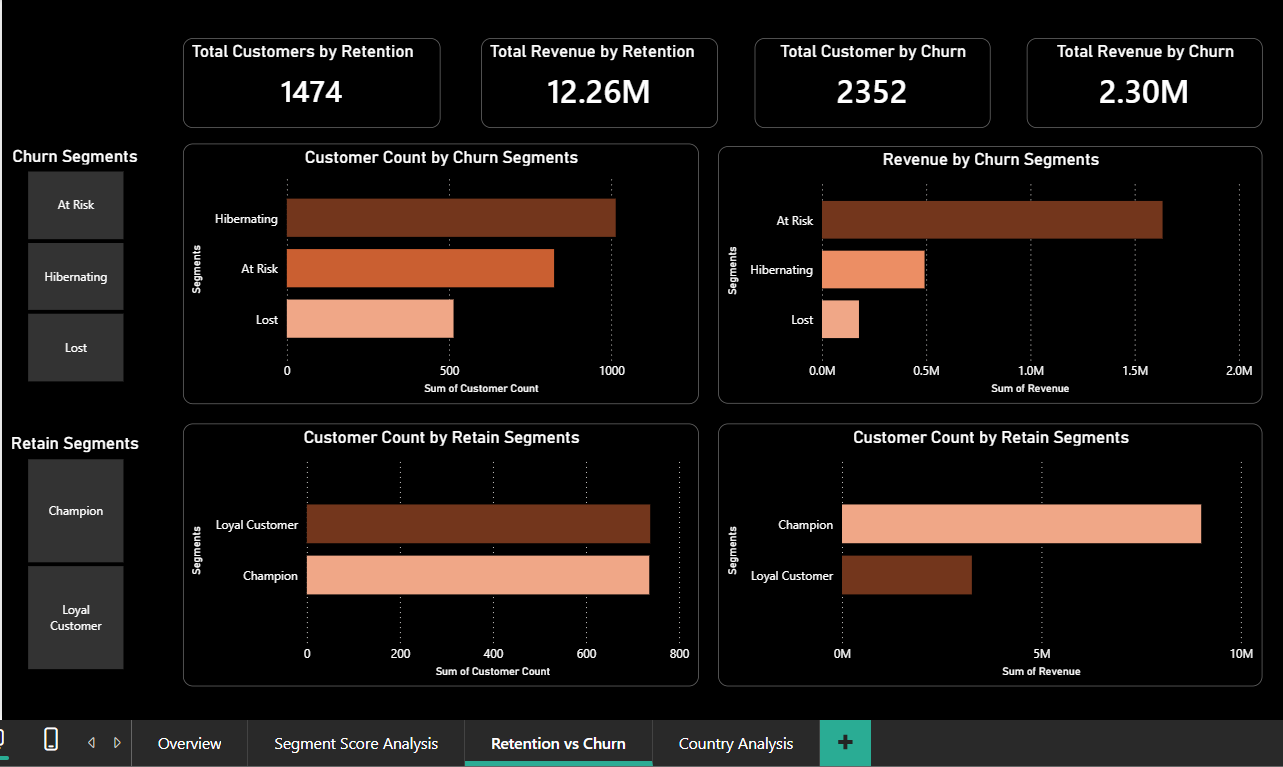

This screenshot's page, from the dashboard's own definition file:
{"tool":"powerbi","page":{"name":"Retention vs Churn","canvas":[1280,720],"ordinal":2},"visuals":[{"type":"barChart","title":"Customer Count by Churn Segments","fields":{"Category":["Segment Analysis.Segments"],"Y":["Sum(Segment Analysis.Customer Count)"]},"box":[180.8,144.4,515.1,260.1],"z":0},{"type":"barChart","title":"Revenue by  Churn Segments","fields":{"Category":["Segment Analysis.Segments"],"Y":["Sum(Segment Analysis.Revenue)"]},"box":[715.4,147,543.7,257.5],"z":1000},{"type":"slicer","title":"Churn Segments","fields":{"Values":["Segment Analysis.Segments"]},"box":[0,147,145.7,241.9],"z":8000},{"type":"cardVisual","title":"Total Customers by Retention","fields":{"Data":["Measures_.Retention Count"]},"box":[180.8,39,257.5,89.8],"z":8001},{"type":"cardVisual","title":"Total Revenue by Retention","fields":{"Data":["Measures_.Retention Revenue"]},"box":[478.7,39,236.7,89.8],"z":8002},{"type":"cardVisual","title":"Total Customer by Churn","fields":{"Data":["Measures_.Churn Count"]},"box":[751.8,39,235.4,89.8],"z":8003},{"type":"cardVisual","title":"Total Revenue by Churn","fields":{"Data":["Measures_.Churn Revenue"]},"box":[1023.7,39,235.4,89.8],"z":8004},{"type":"barChart","title":"Customer Count by Retain  Segments","fields":{"Category":["Segment Analysis.Segments"],"Y":["Sum(Segment Analysis.Customer Count)"]},"box":[180.8,424,515.1,262.7],"z":8005},{"type":"barChart","title":"Customer Count by Retain Segments","fields":{"Category":["Segment Analysis.Segments"],"Y":["Sum(Segment Analysis.Revenue)"]},"box":[715.4,424,543.7,262.7],"z":8006},{"type":"slicer","title":"Retain Segments","fields":{"Values":["Segment Analysis.Segments"]},"box":[0,434.4,145.7,241.9],"z":8007}]}

Visuals, with their boxes on the page's 1280x720 design canvas (x1, y1, x2, y2). These are canvas units, not pixel positions in the 1283x767 screenshot, which may show the page scaled, cropped or inside an application window:
"Customer Count by Churn Segments" barChart: detection(181, 144, 696, 404)
"Revenue by  Churn Segments" barChart: detection(715, 147, 1259, 404)
"Churn Segments" slicer: detection(0, 147, 146, 389)
"Total Customers by Retention" cardVisual: detection(181, 39, 438, 129)
"Total Revenue by Retention" cardVisual: detection(479, 39, 715, 129)
"Total Customer by Churn" cardVisual: detection(752, 39, 987, 129)
"Total Revenue by Churn" cardVisual: detection(1024, 39, 1259, 129)
"Customer Count by Retain  Segments" barChart: detection(181, 424, 696, 687)
"Customer Count by Retain Segments" barChart: detection(715, 424, 1259, 687)
"Retain Segments" slicer: detection(0, 434, 146, 676)
